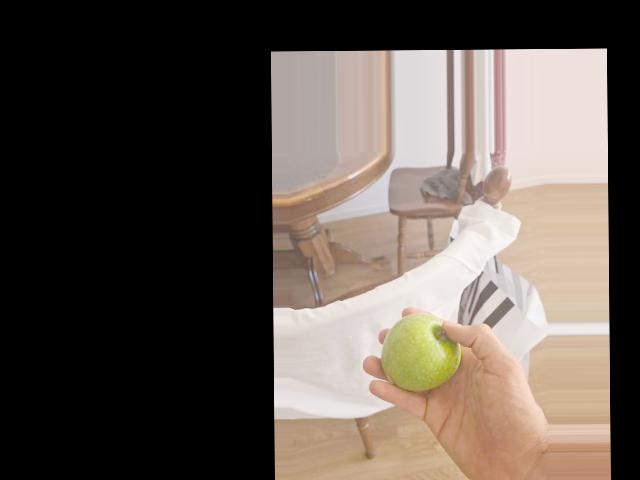apple: (382, 311, 455, 395)
